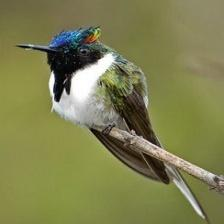bird: (17, 26, 204, 216)
